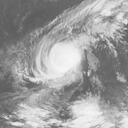cyclone: (27, 37, 84, 91)
